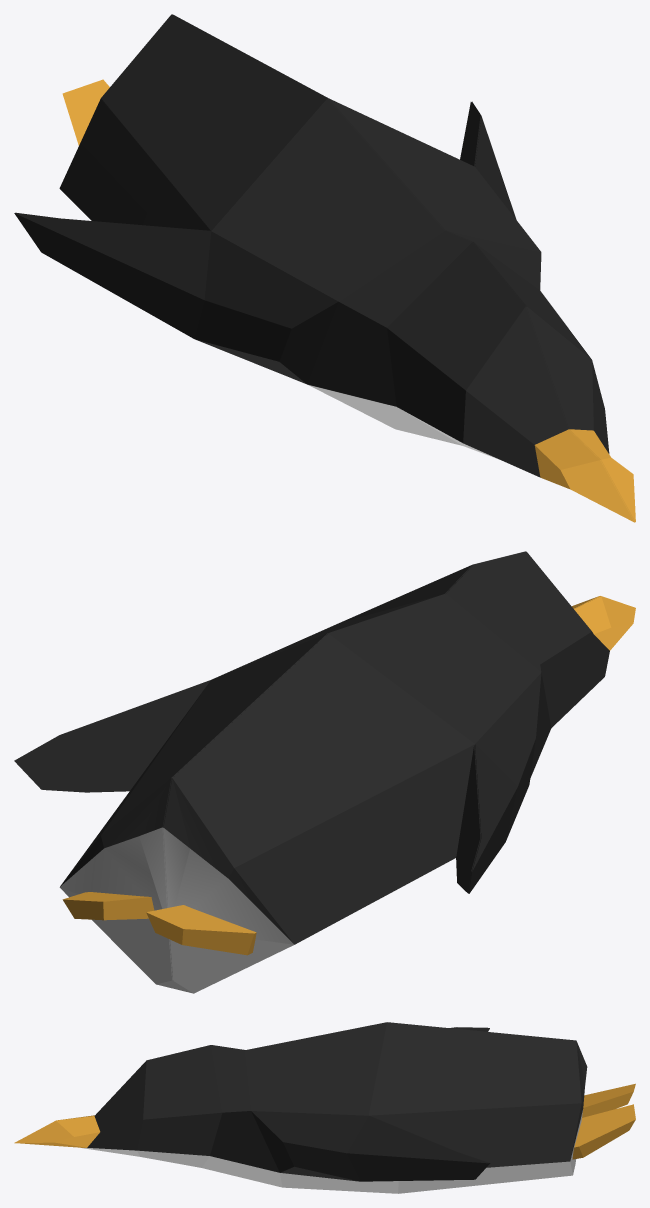
Rendered from Penguins.fbx.
The picture shows the model from 3 angles, top to bottom: view 1: azimuth 30°, elevation 25°; view 2: azimuth 150°, elevation 25°; view 3: azimuth 270°, elevation 25°; orthographic projection. The views are drawn at different scales.
Visible parts, largest first — view 1: Penguins; view 2: Penguins; view 3: Penguins.
Part boxes in pixels (x1,y1,x2,y2): Penguins: [14, 14, 635, 522]; Penguins: [14, 551, 635, 993]; Penguins: [14, 1022, 635, 1193].
Bounding box in the file's own units: 578 × 330 × 1121.
